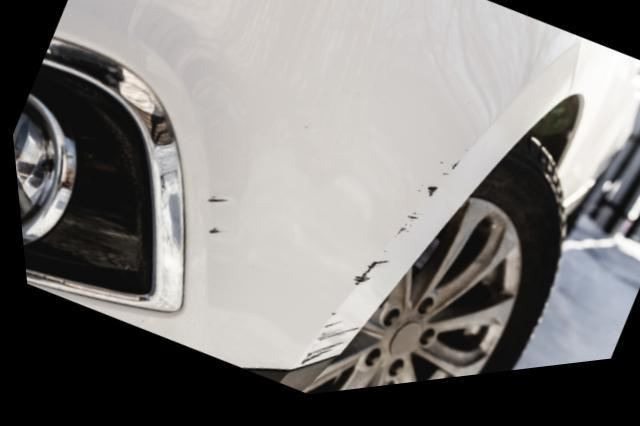scratch: (293, 169, 455, 372), (194, 193, 231, 248)
